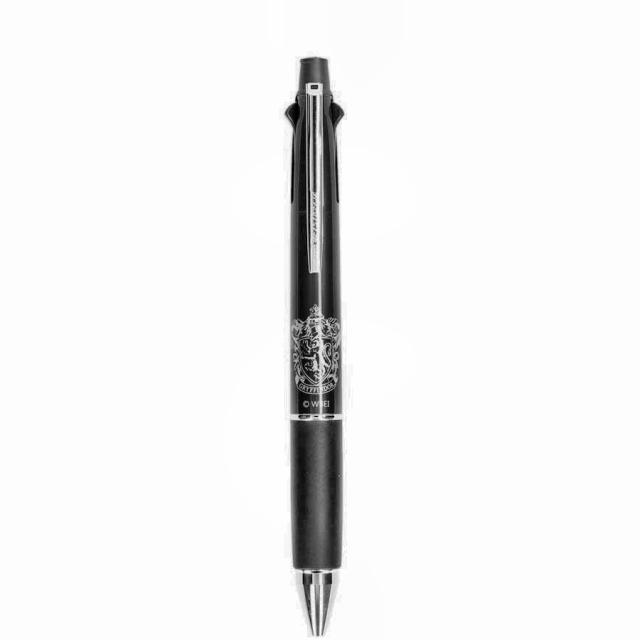Pen: (286, 56, 344, 637)
